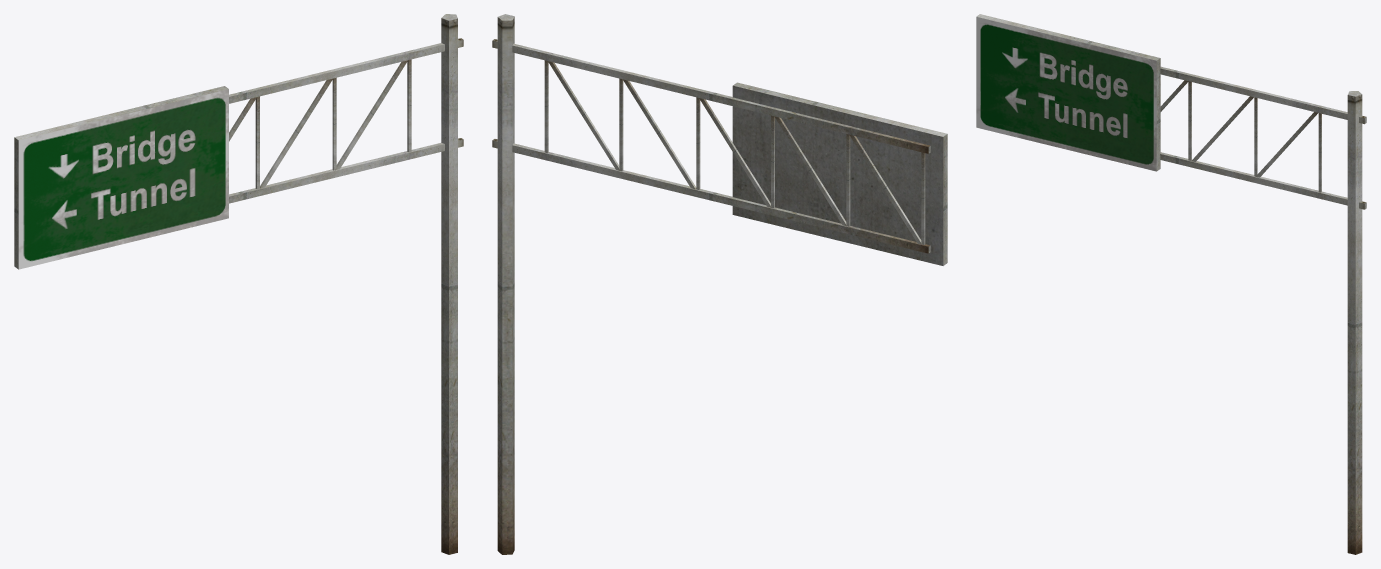
File: street_strname.fbx
The picture shows the model from 3 angles, left to right: view 1: azimuth 30°, elevation 25°; view 2: azimuth 150°, elevation 25°; view 3: azimuth 330°, elevation 25°; orthographic projection. The views are drawn at different scales.
Visible parts, largest first — view 1: Cube.002; view 2: Cube.002; view 3: Cube.002.
Boxes of the visible parts, bbox=[...] form: Cube.002: bbox=[14, 14, 463, 554]; Cube.002: bbox=[492, 14, 947, 554]; Cube.002: bbox=[976, 14, 1366, 554].
Bounding box in the file's own units: 1053 × 1198 × 37.34.
